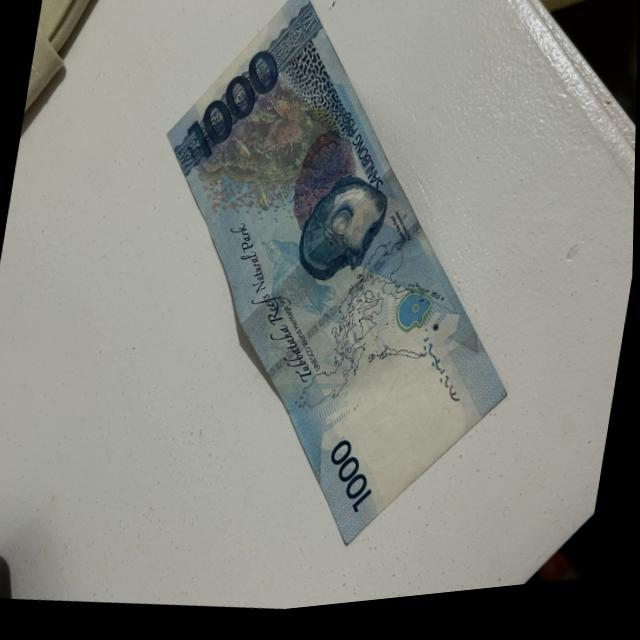1000_pearl: (298, 181, 394, 301)
1000_pearl_watermark: (391, 284, 441, 361)
value_watermark: (411, 401, 468, 473)
watermark: (344, 345, 466, 515)
